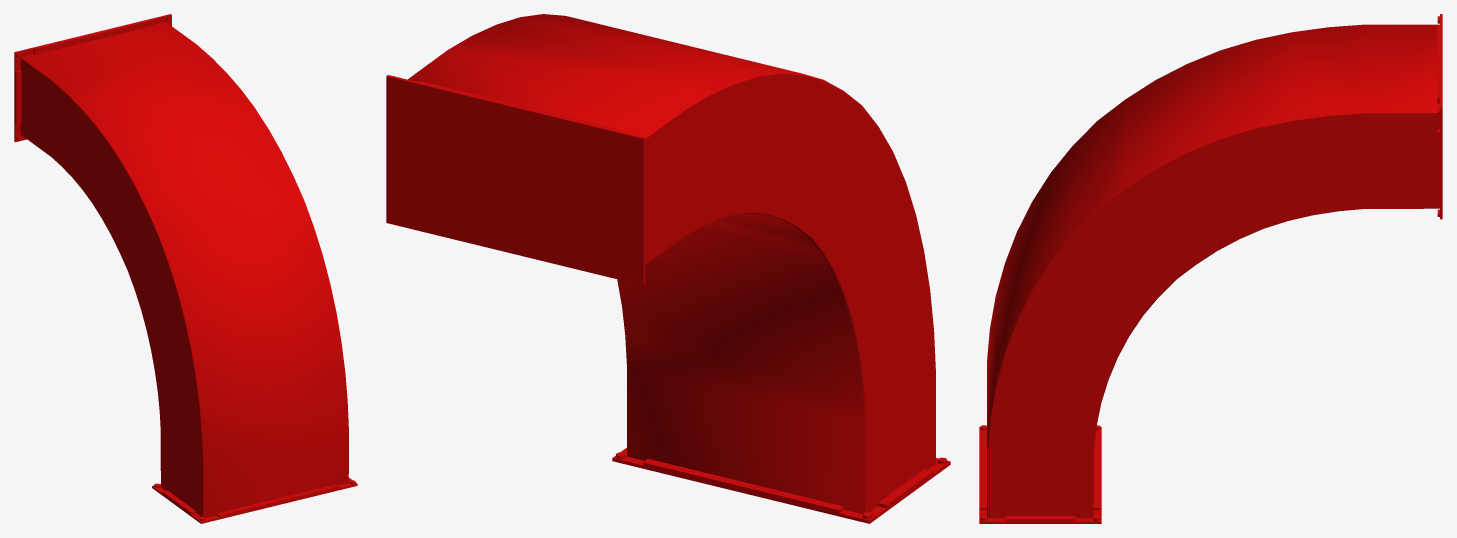
3 renders of one model, left to right at view 1: azimuth 30°, elevation 25°; view 2: azimuth 150°, elevation 25°; view 3: azimuth 270°, elevation 25°, orthographic. The views are drawn at different scales.
Parts seen in each view (by area): view 1: Mesh; view 2: Mesh; view 3: Mesh.
Part boxes in pixels (x1=…): Mesh: x1=14, y1=14, x2=357, y2=523; Mesh: x1=386, y1=14, x2=950, y2=523; Mesh: x1=979, y1=14, x2=1442, y2=523.
Size of the model in its own units: 0.44 by 0.9 by 0.91.
